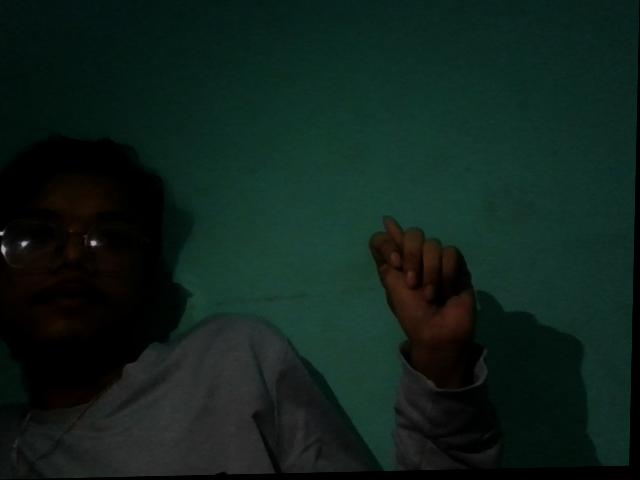Washroom: (357, 207, 499, 367)
